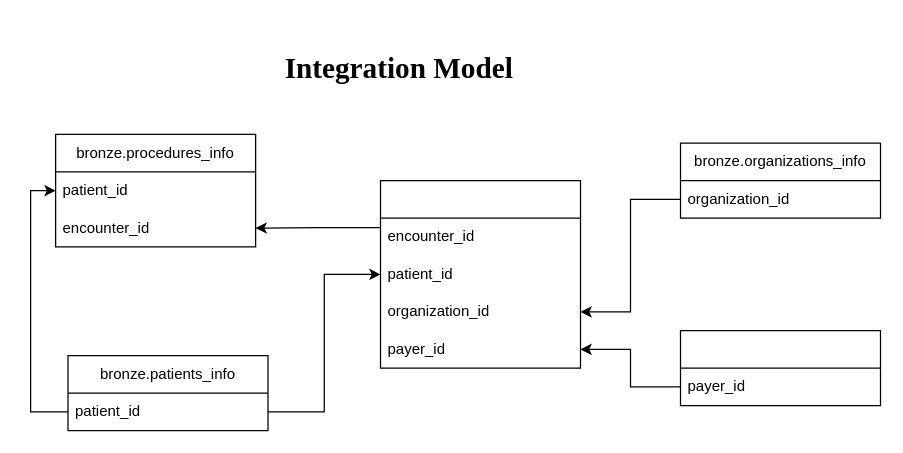
Image size: 903x453. Some labels were removed from this diagram. The box of each missing label's shape, as (x1, y1, x2, y2) in pixels:
bronze.encounters_info: (379, 179, 580, 368)
bronze.payers_info: (679, 329, 880, 406)
